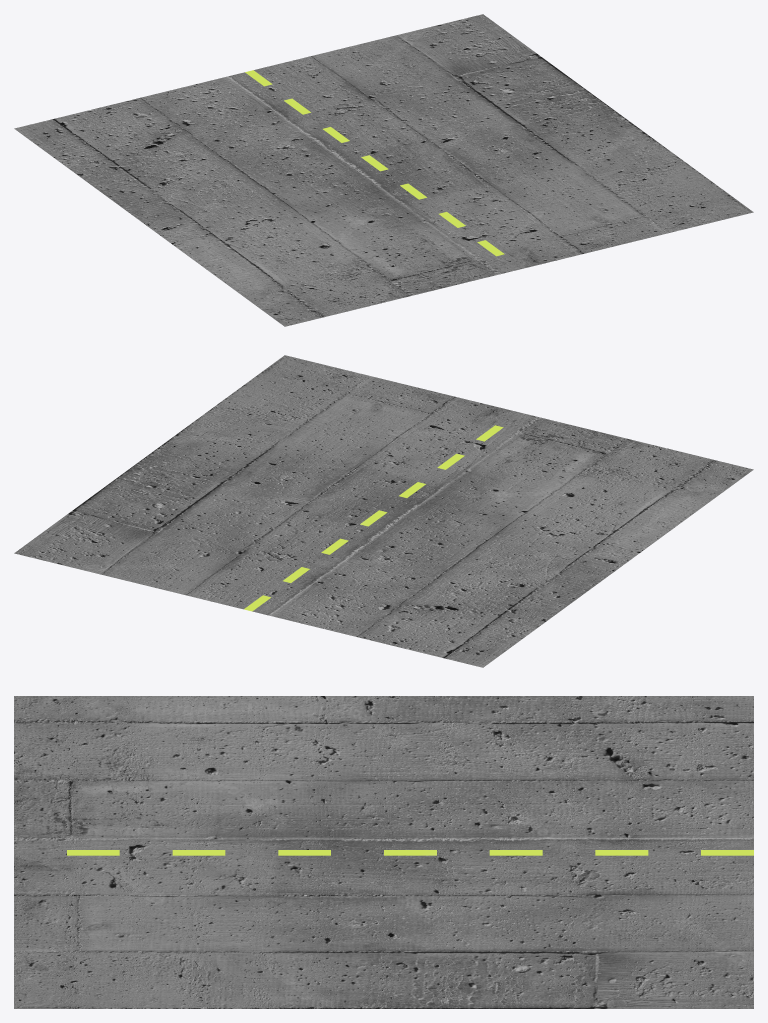
Rendered from Piso_009.fbx.
3 renders of one model, top to bottom at view 1: azimuth 30°, elevation 25°; view 2: azimuth 150°, elevation 25°; view 3: azimuth 270°, elevation 25°, orthographic. The views are drawn at different scales.
Visible parts, largest first — view 1: Plane; view 2: Plane; view 3: Plane.
Boxes of the visible parts, left/top/right/bottom form: Plane: left=14, top=14, right=753, bottom=326; Plane: left=14, top=355, right=753, bottom=667; Plane: left=14, top=696, right=753, bottom=1008.
Size of the model in its own units: 600 by 0.000188 by 600.
